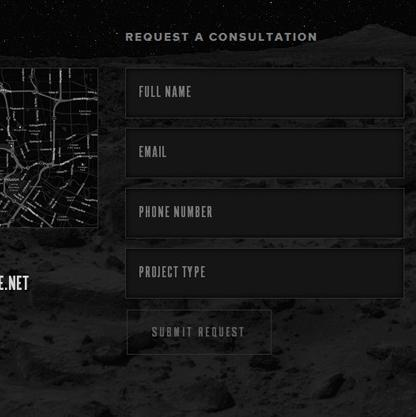button: (126, 310, 272, 356)
field: (122, 67, 405, 120), (124, 127, 405, 178), (124, 187, 404, 238), (125, 248, 404, 299)
